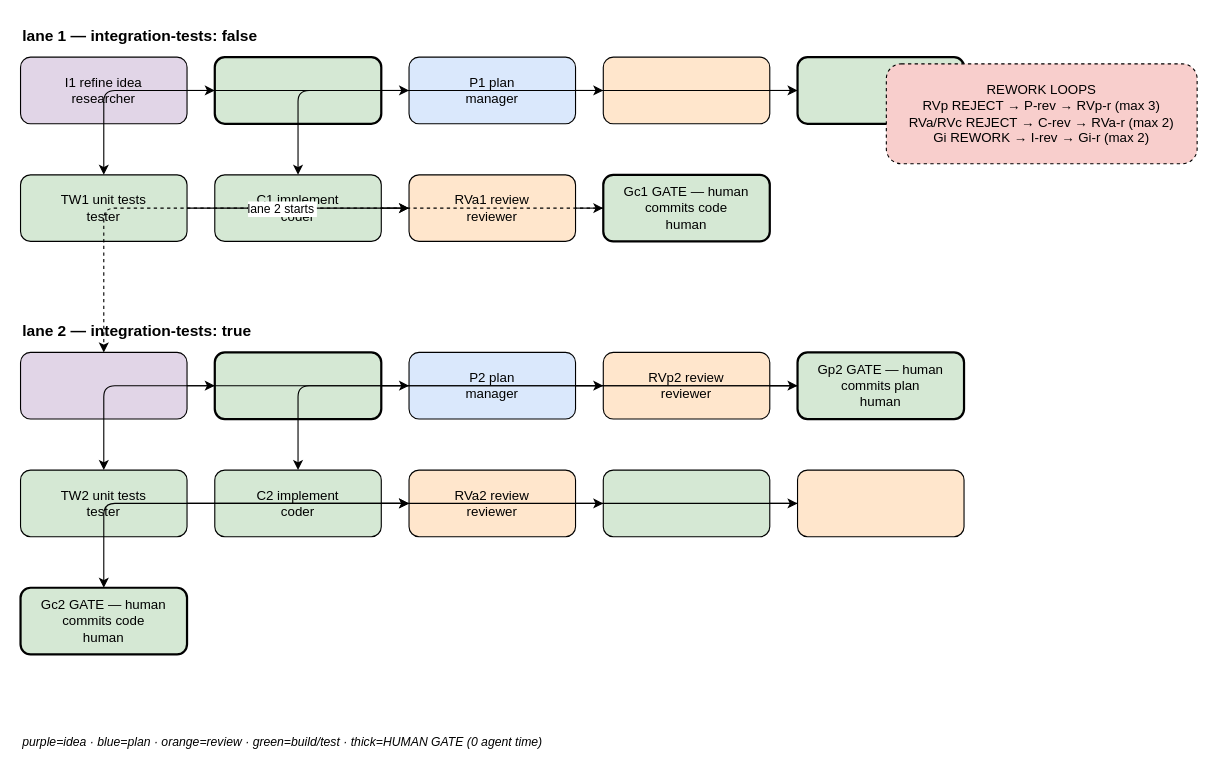
Image size: 1217x768. Some labels were removed from this diagram. The shapes that lost their labels are listed below. From the top down, each one's centre as x and y in pixels, then its label:
the point at 297,90: Gi1 GATE — human accepts idea human
the point at 686,90: RVp1 review reviewer
the point at 880,90: Gp1 GATE — human commits plan human
the point at 103,385: I2 refine idea researcher
the point at 297,385: Gi2 GATE — human accepts idea human
the point at 686,503: TI2 integration tests coder
the point at 880,503: RVc2 final review reviewer
